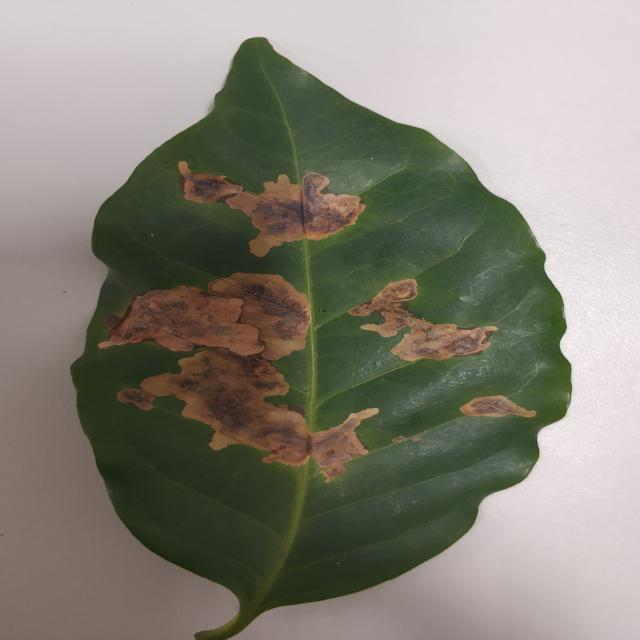Plaga-Minador: (68, 38, 574, 640)
